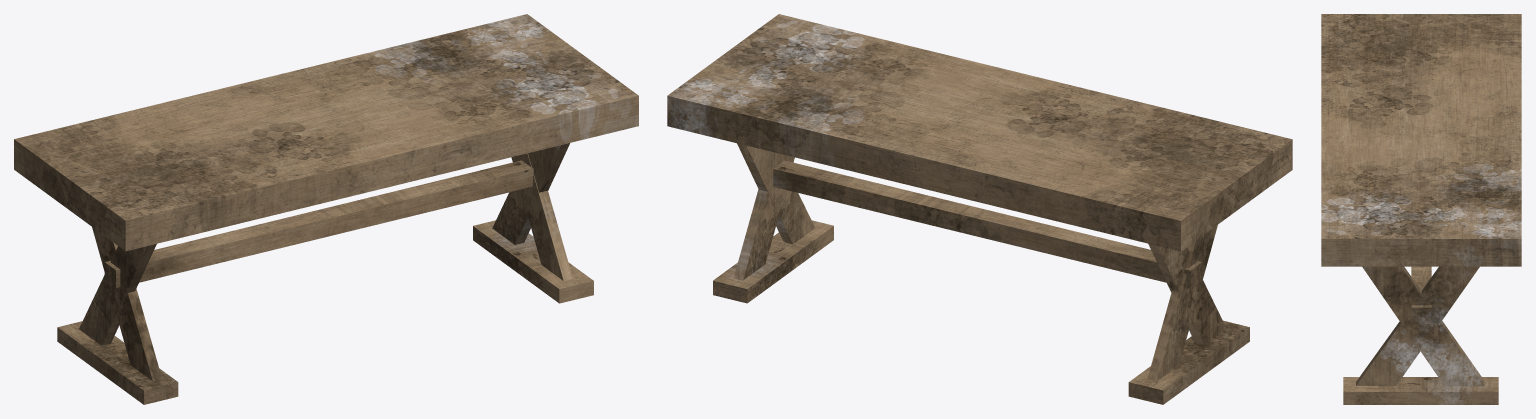
Rendered from viking_table.glb.
The picture shows the model from 3 angles, left to right: view 1: azimuth 30°, elevation 25°; view 2: azimuth 150°, elevation 25°; view 3: azimuth 270°, elevation 25°; orthographic projection. The views are drawn at different scales.
Parts seen in each view (by area): view 1: Object_3; view 2: Object_3; view 3: Object_3.
Boxes of the visible parts, left/top/right/bottom form: Object_3: left=14, top=14, right=638, bottom=404; Object_3: left=667, top=14, right=1292, bottom=404; Object_3: left=1321, top=14, right=1521, bottom=404.
Bounding box in the file's own units: 268 × 100 × 101.
Materials: 1 (1 with a texture image).
